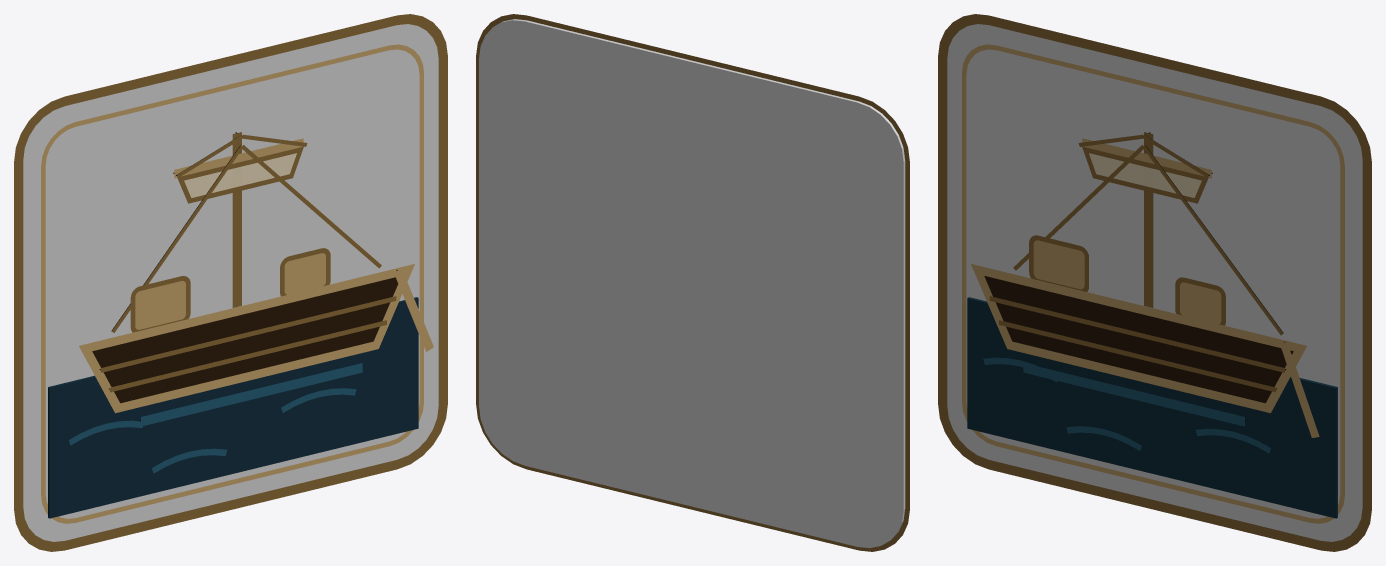
Rendered from obj-lodka-barzha.glb.
3 views of the same model, side by side, from view 1: azimuth 30°, elevation 25°; view 2: azimuth 150°, elevation 25°; view 3: azimuth 330°, elevation 25° (orthographic).
Visible parts, largest first — view 1: obj-lodka-barzha; view 2: obj-lodka-barzha; view 3: obj-lodka-barzha.
Boxes of the visible parts, bbox=[...] form: obj-lodka-barzha: bbox=[14, 14, 447, 551]; obj-lodka-barzha: bbox=[476, 14, 909, 551]; obj-lodka-barzha: bbox=[938, 14, 1371, 551].
Size of the model in its own units: 0.3917 by 0.3917 by 0.0351.
